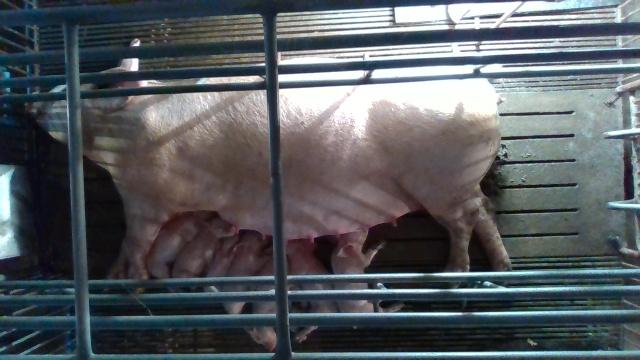piglet: (245, 243, 307, 353), (331, 226, 404, 315), (288, 240, 336, 342), (219, 231, 270, 313), (146, 212, 206, 281), (171, 216, 236, 279)
sow-sleep-lactate: (28, 38, 512, 294)
